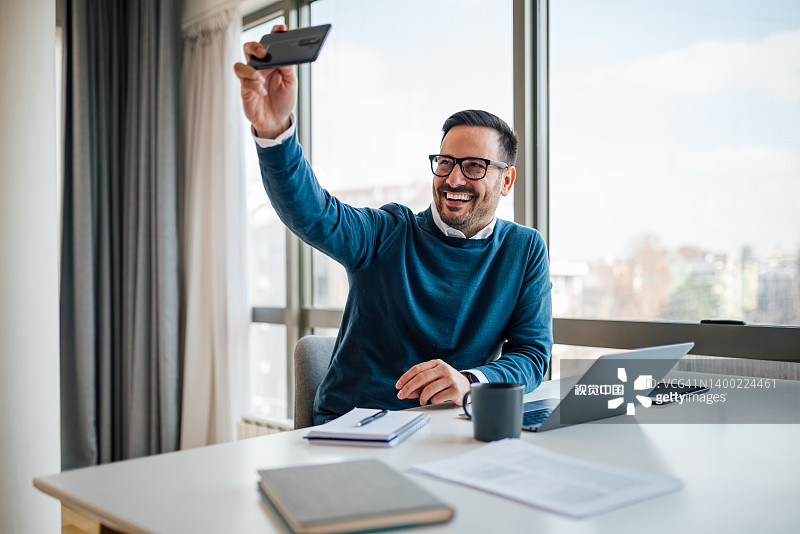no-phone: (387, 349, 481, 409)
taking photos: (224, 17, 327, 139)
